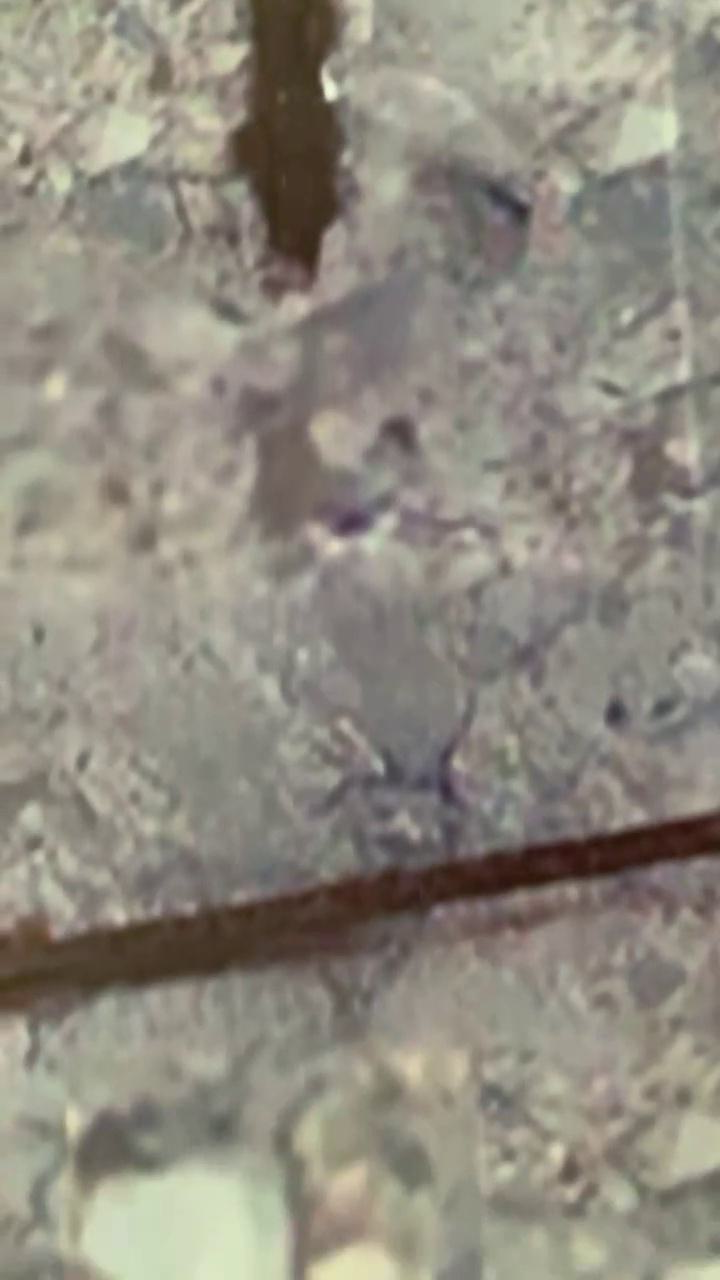Exposed reinforcement: (1, 804, 720, 1006), (231, 1, 350, 278)
